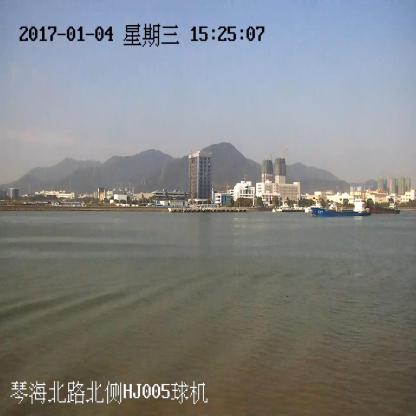Bulk Carrier: (312, 198, 369, 216)
